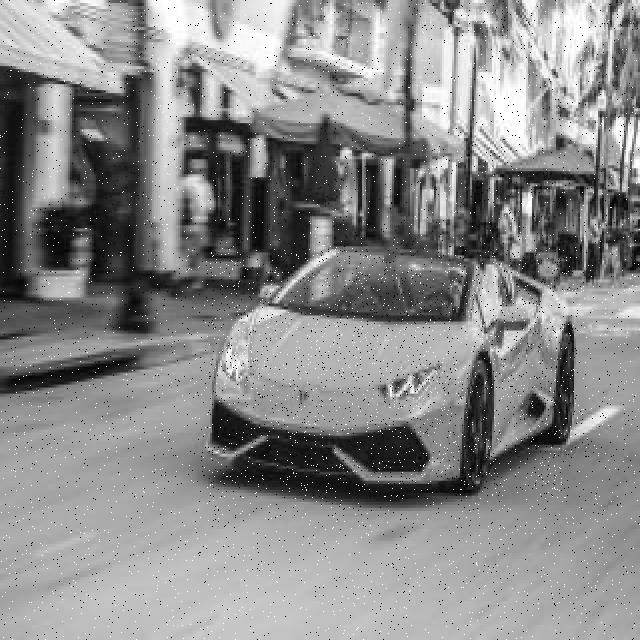Sedan: (203, 248, 578, 498)
